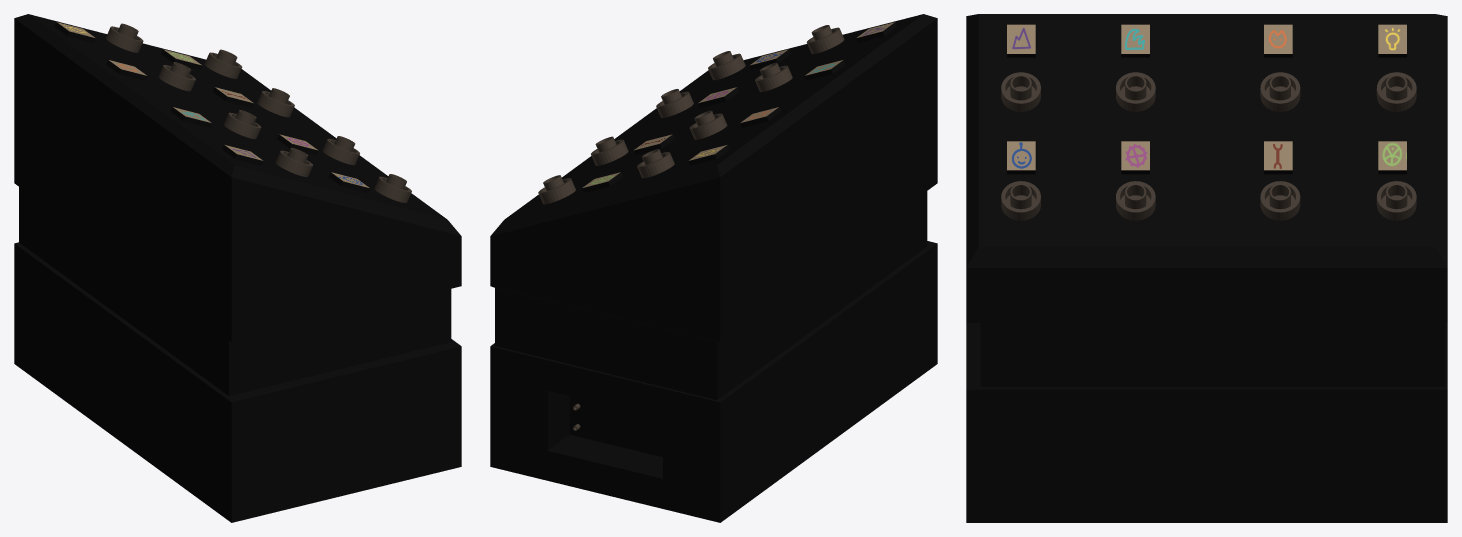
The model's file is EngineWithSymbols.fbx.
The picture shows the model from 3 angles, left to right: view 1: azimuth 30°, elevation 25°; view 2: azimuth 150°, elevation 25°; view 3: azimuth 270°, elevation 25°; orthographic projection. The views are drawn at different scales.
Parts seen in each view (by area): view 1: Main Console, Fixture 4, Fixture 1, Fixture 6, Fixture 8, Fixture 2, Fixture 3, Fixture 7, Fixture 5; view 2: Main Console, Fixture 3, Fixture 2, Fixture 1, Fixture 5, Fixture 6, Fixture 4, Fixture 8, Fixture 7; view 3: Main Console, Fixture 3, Fixture 7, Fixture 4, Fixture 8, Fixture 2, Fixture 5, Fixture 6, Fixture 1, Symbol 1, Symbol 2, Symbol 3 (+5 smaller).
Part boxes in pixels (x1=…): Main Console: x1=14, y1=14, x2=461, y2=522; Fixture 4: x1=105, y1=23, x2=143, y2=52; Fixture 1: x1=275, y1=147, x2=313, y2=176; Fixture 6: x1=322, y1=136, x2=359, y2=165; Fixture 8: x1=204, y1=49, x2=242, y2=78; Fixture 2: x1=223, y1=110, x2=261, y2=139; Fixture 3: x1=158, y1=62, x2=195, y2=91; Fixture 7: x1=257, y1=88, x2=294, y2=117; Fixture 5: x1=374, y1=174, x2=411, y2=202; Main Console: x1=490, y1=14, x2=937, y2=522; Fixture 3: x1=689, y1=110, x2=727, y2=139; Fixture 2: x1=755, y1=62, x2=792, y2=91; Fixture 1: x1=806, y1=25, x2=844, y2=53; Fixture 5: x1=708, y1=51, x2=745, y2=80; Fixture 6: x1=656, y1=89, x2=693, y2=117; Fixture 4: x1=637, y1=149, x2=674, y2=178; Fixture 8: x1=538, y1=175, x2=575, y2=204; Fixture 7: x1=591, y1=136, x2=628, y2=165; Main Console: x1=966, y1=14, x2=1447, y2=522; Fixture 3: x1=1260, y1=72, x2=1300, y2=111; Fixture 7: x1=1260, y1=181, x2=1300, y2=220; Fixture 4: x1=1376, y1=72, x2=1416, y2=111; Fixture 8: x1=1376, y1=181, x2=1416, y2=220; Fixture 2: x1=1116, y1=72, x2=1155, y2=111; Fixture 5: x1=1001, y1=181, x2=1040, y2=220; Fixture 6: x1=1116, y1=181, x2=1155, y2=220; Fixture 1: x1=1001, y1=72, x2=1040, y2=111; Symbol 1: x1=1007, y1=24, x2=1035, y2=53; Symbol 2: x1=1121, y1=24, x2=1149, y2=53; Symbol 3: x1=1264, y1=24, x2=1292, y2=53.
Size of the model in its own units: 309 by 451 by 505.
10 materials, 8 textured.
